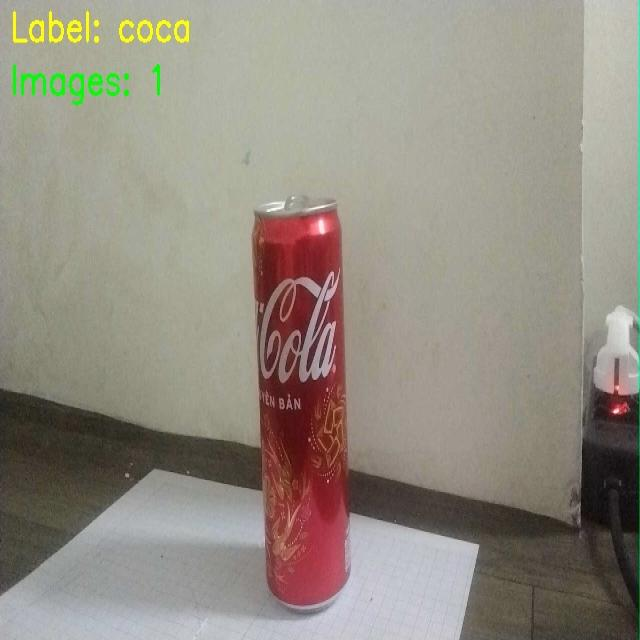Coca: (208, 178, 376, 634)
